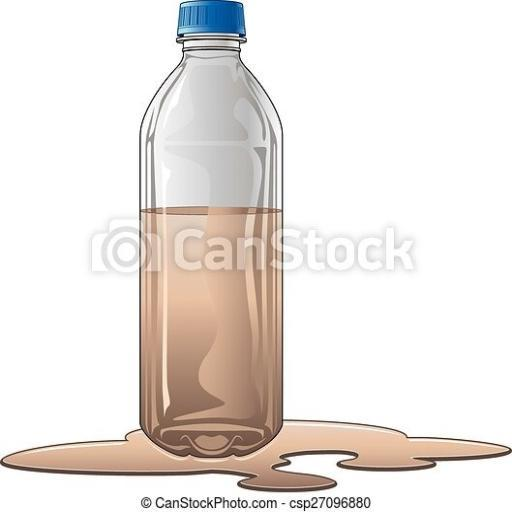bottle: (136, 0, 288, 459)
